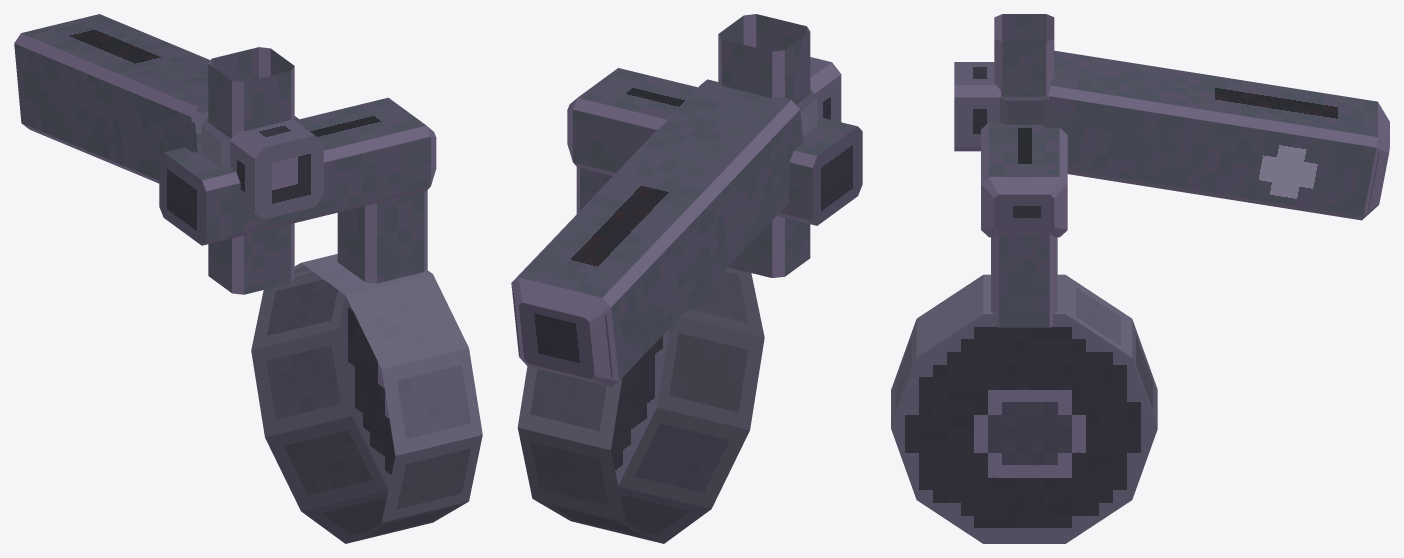
The model's file is stab.glb.
3 views of the same model, side by side, from view 1: azimuth 30°, elevation 25°; view 2: azimuth 150°, elevation 25°; view 3: azimuth 270°, elevation 25° (orthographic). The views are drawn at different scales.
Parts seen in each view (by area): view 1: stab_knuckle, stab_bar_up, stab_upright; view 2: stab_knuckle, stab_bar_up, stab_upright; view 3: stab_knuckle, stab_bar_up, stab_upright.
Part boxes in pixels (x1,y1,x2,y2): stab_knuckle: (159, 97, 482, 543); stab_bar_up: (14, 14, 210, 183); stab_upright: (208, 47, 323, 294); stab_knuckle: (517, 68, 862, 543); stab_bar_up: (511, 79, 803, 386); stab_upright: (718, 14, 841, 277); stab_knuckle: (891, 95, 1157, 543); stab_bar_up: (1043, 50, 1389, 220); stab_upright: (954, 14, 1054, 151).
Bounding box in the file's own units: 0.38 × 0.7352 × 0.7482.
1 material, 1 textured.
